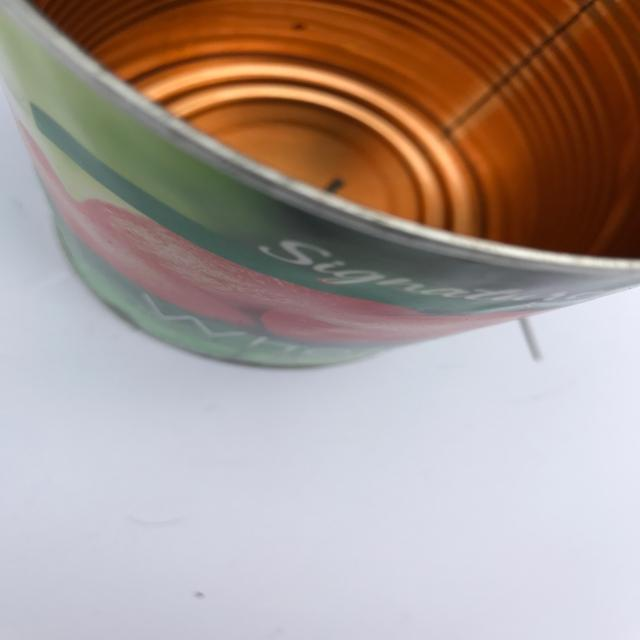metal: (0, 2, 640, 368)
